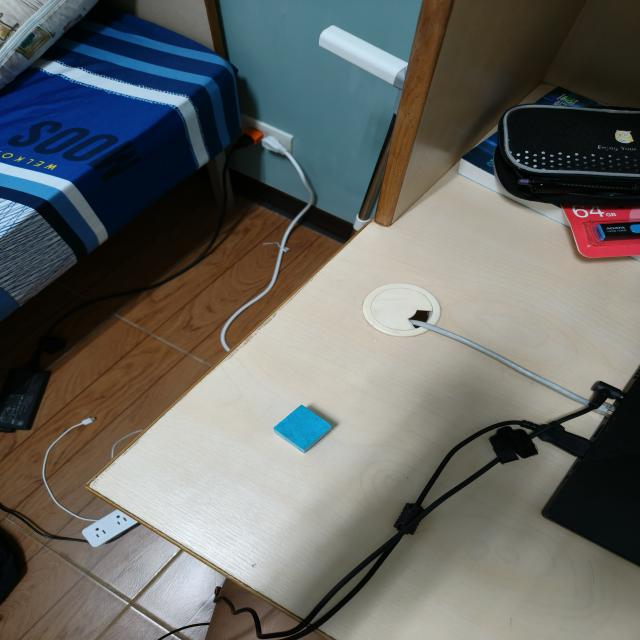blue_block: (274, 405, 335, 454)
